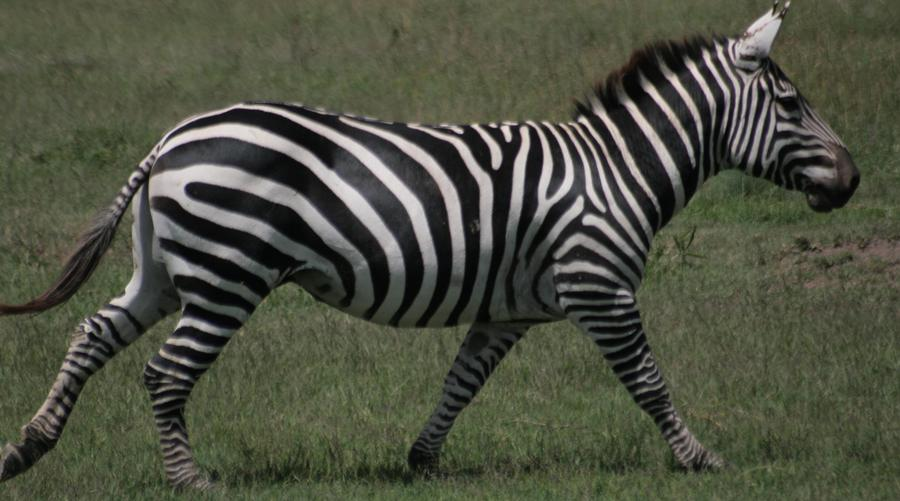zebra_plains: (162, 100, 622, 320)
